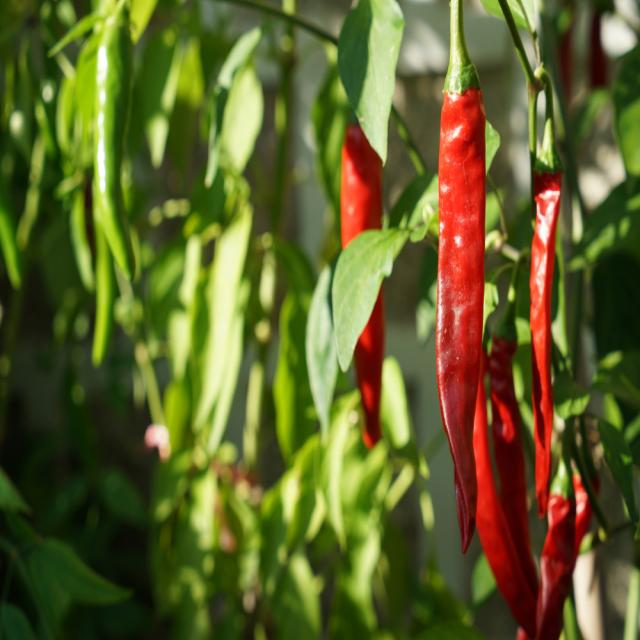Ripe: (436, 86, 485, 552), (474, 350, 536, 637), (340, 124, 384, 455), (489, 335, 538, 597), (530, 171, 562, 516), (536, 495, 576, 638), (572, 472, 592, 556)
